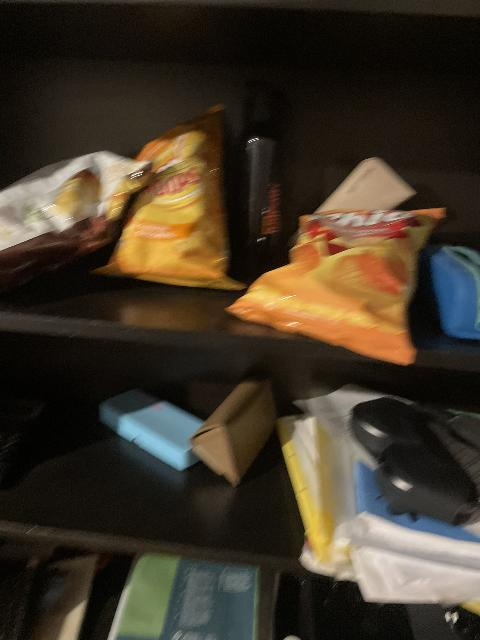Chio Cascaval 125g: (221, 207, 439, 364)
Chio Hula Hoops Cheese 70g: (86, 105, 244, 290)
Lays Beef Grilled Ribs 125g: (0, 151, 149, 295)
